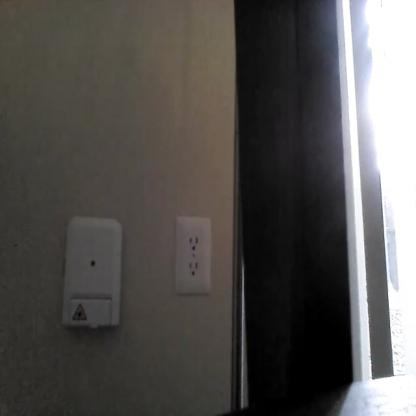OUTLET: (176, 216, 212, 295)
